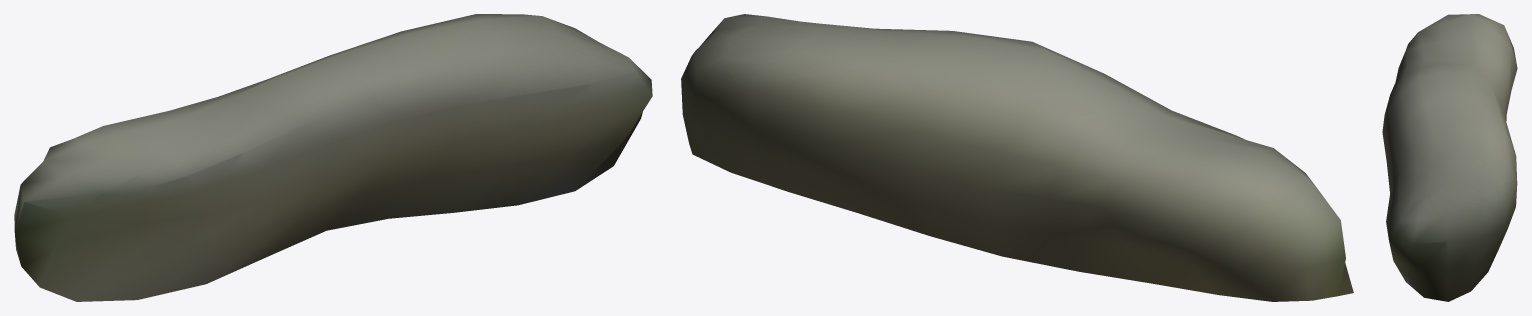
File: ObsRock.FBX
3 renders of one model, left to right at view 1: azimuth 30°, elevation 25°; view 2: azimuth 150°, elevation 25°; view 3: azimuth 270°, elevation 25°, orthographic. The views are drawn at different scales.
Visible parts, largest first — view 1: ObsRock; view 2: ObsRock; view 3: ObsRock.
Part boxes in pixels (x1,y1,x2,y2): ObsRock: (14,14,652,301); ObsRock: (681,14,1353,301); ObsRock: (1382,14,1517,301).
Bounding box in the file's own units: 1621 × 409 × 395.
1 material, 1 textured.
